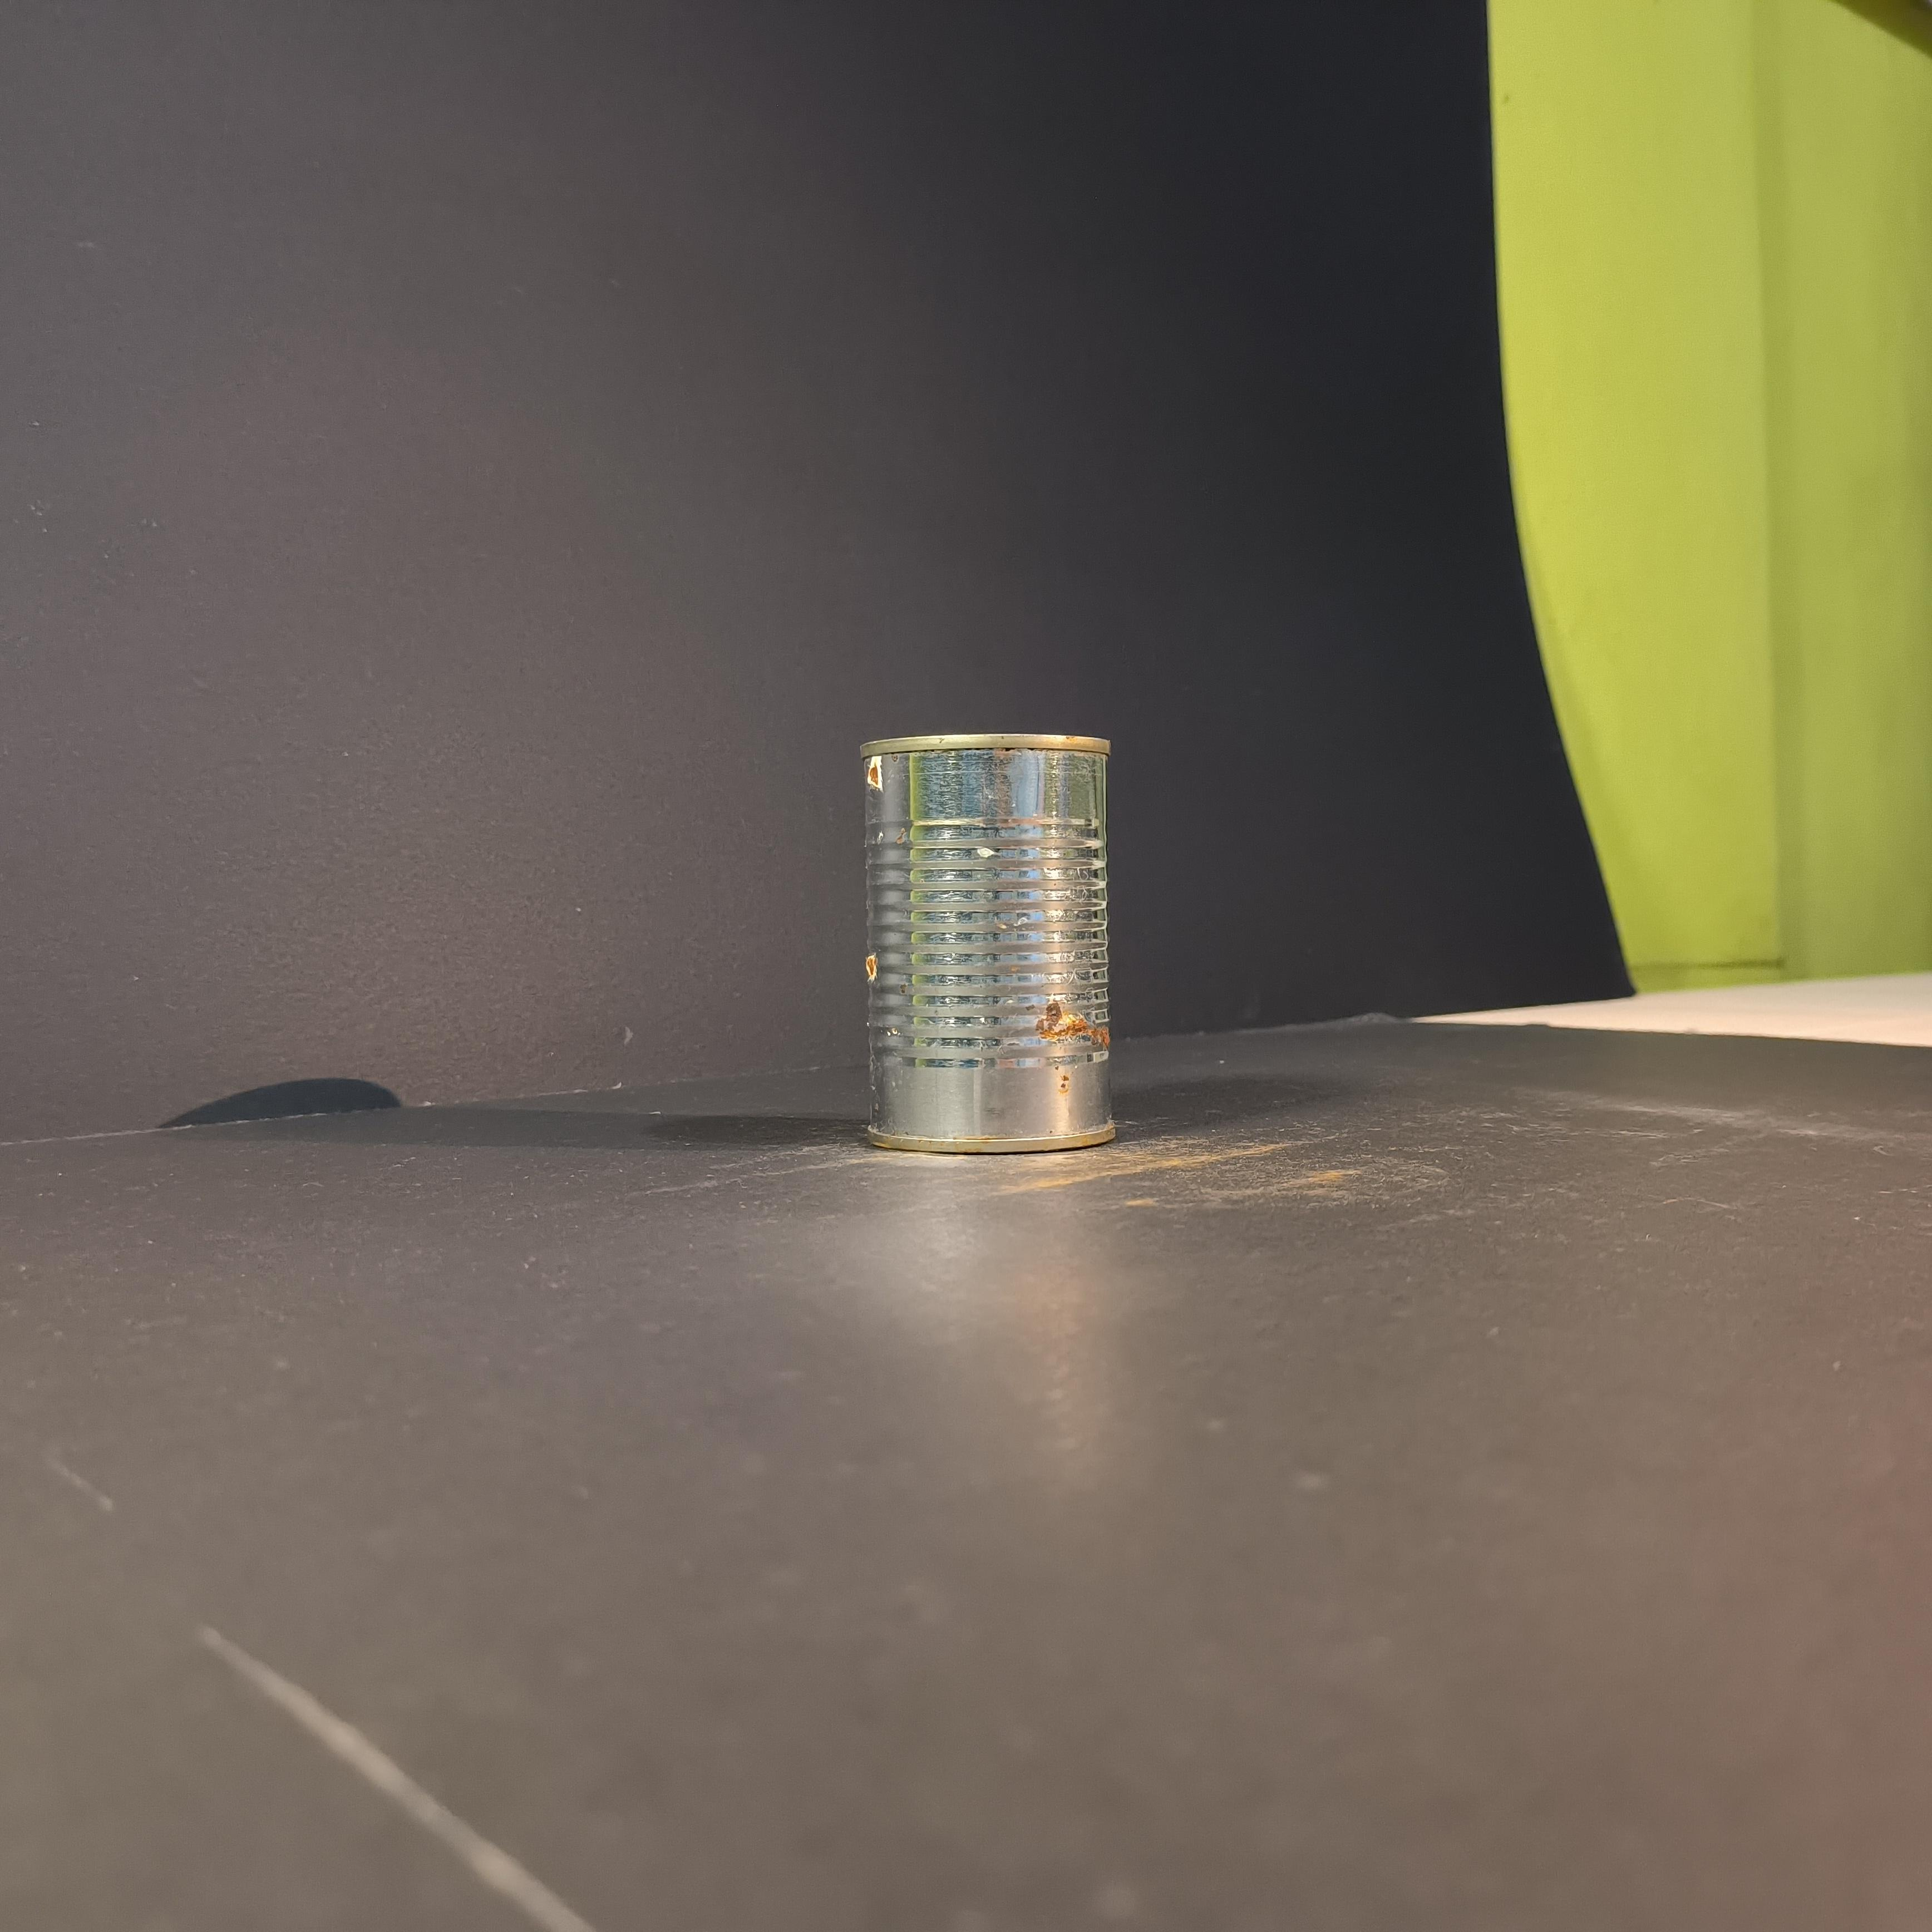Major Defect: (859, 733, 1117, 1152)
